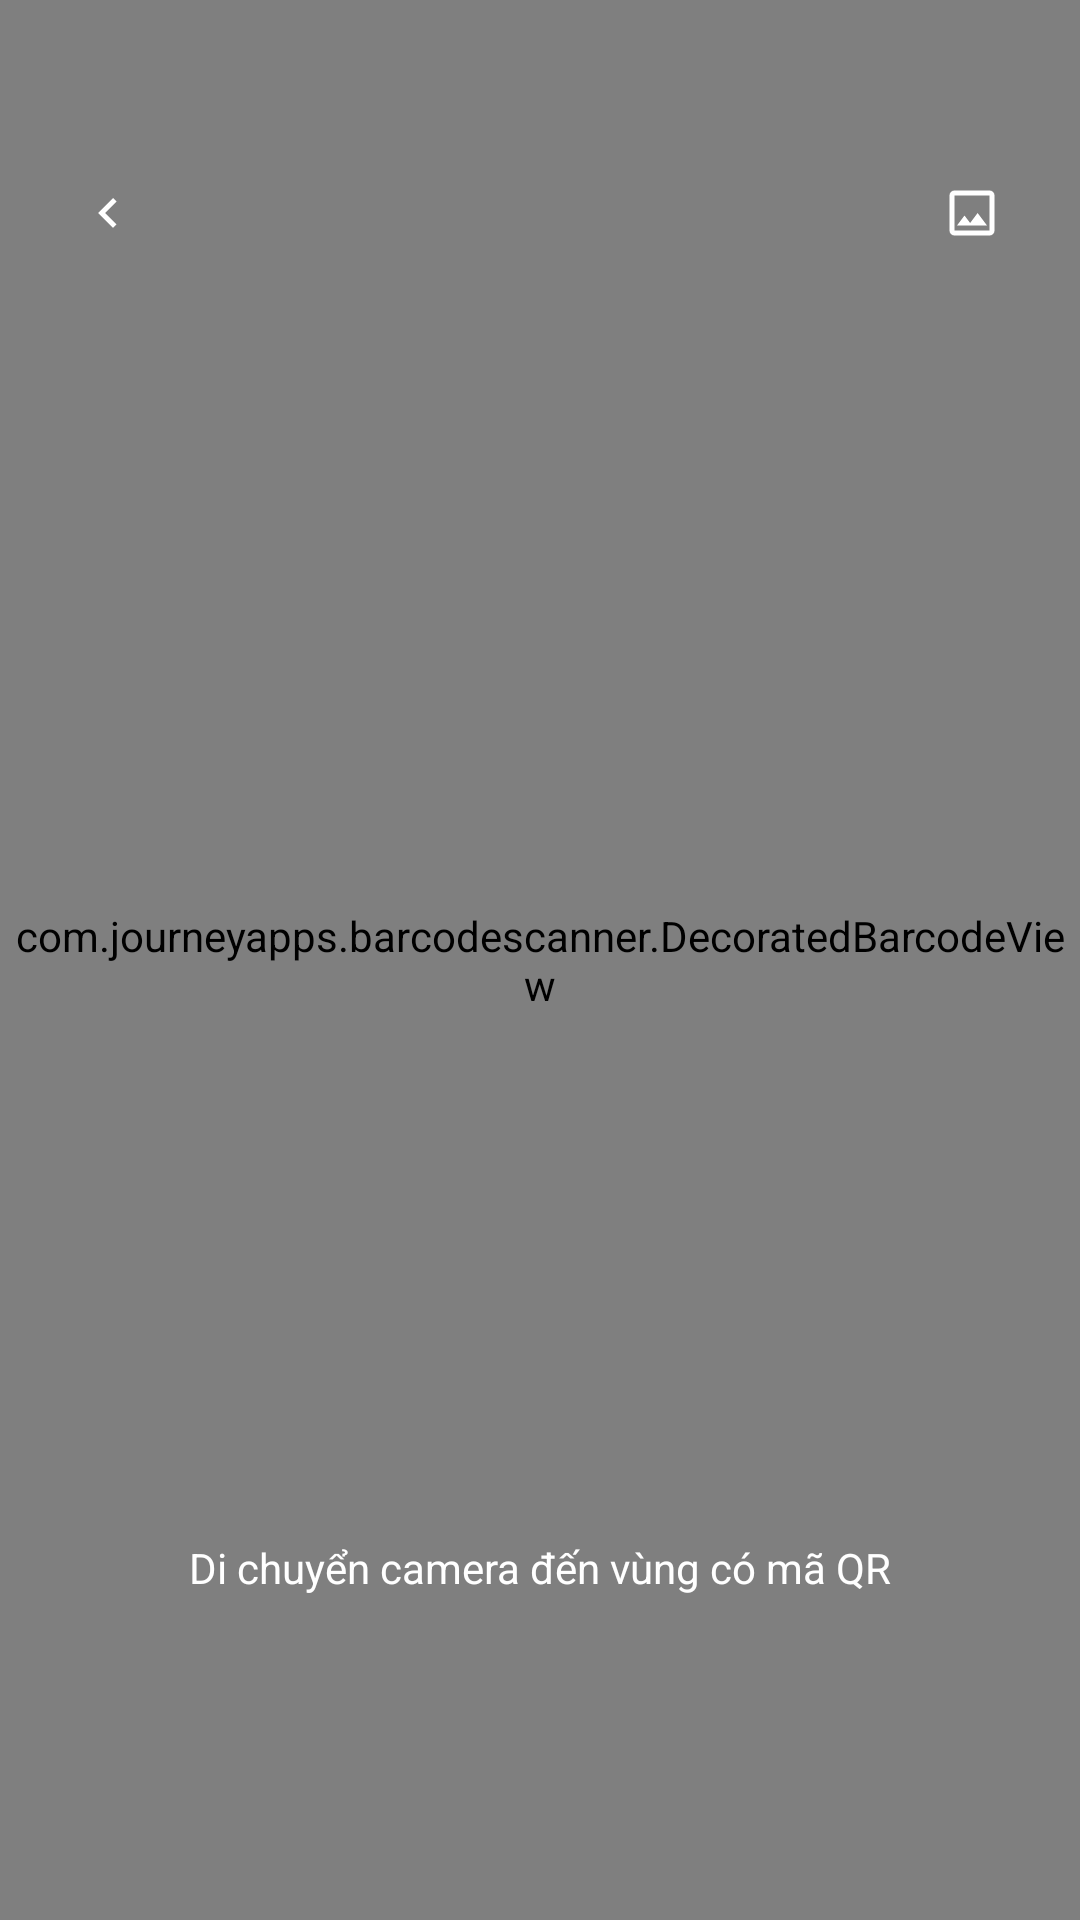

Point at icon controls on the screen. Image size 1080×1920, points as (x,y).
arrow left: (107,213)
Mở thư viện ảnh: (972,213)
